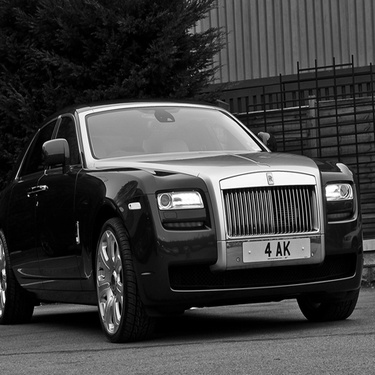car: (7, 95, 369, 323)
